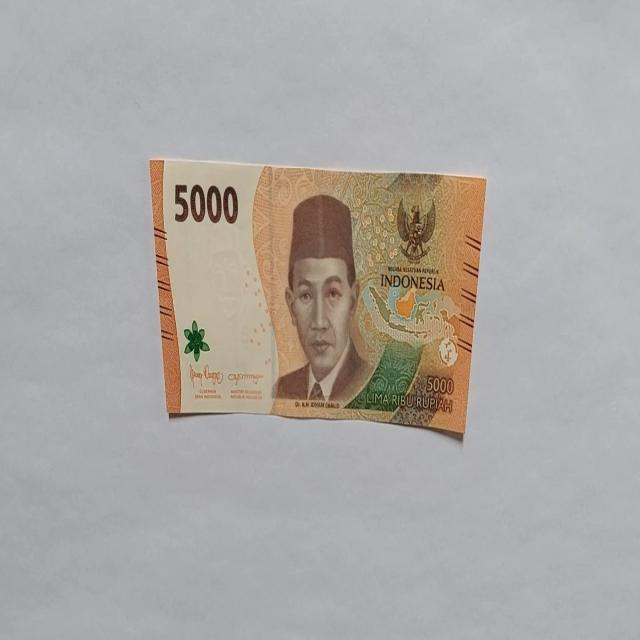lima ribu rupiah: (149, 156, 487, 440), (270, 193, 376, 407)
